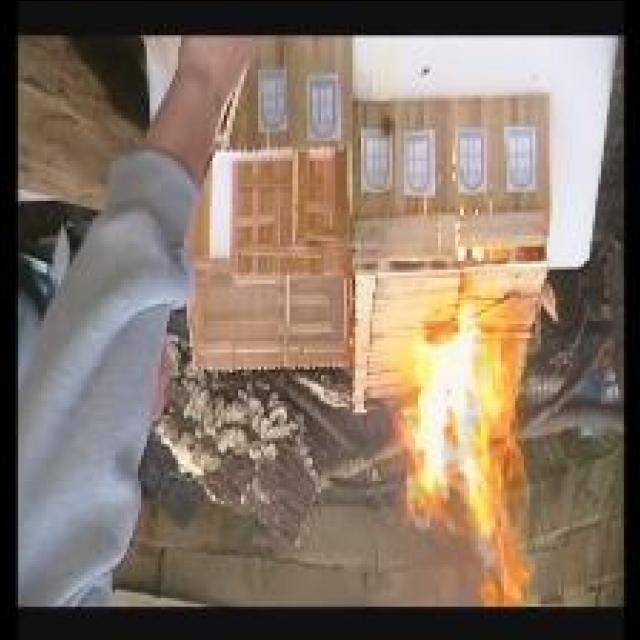Fire: (396, 303, 533, 606)
